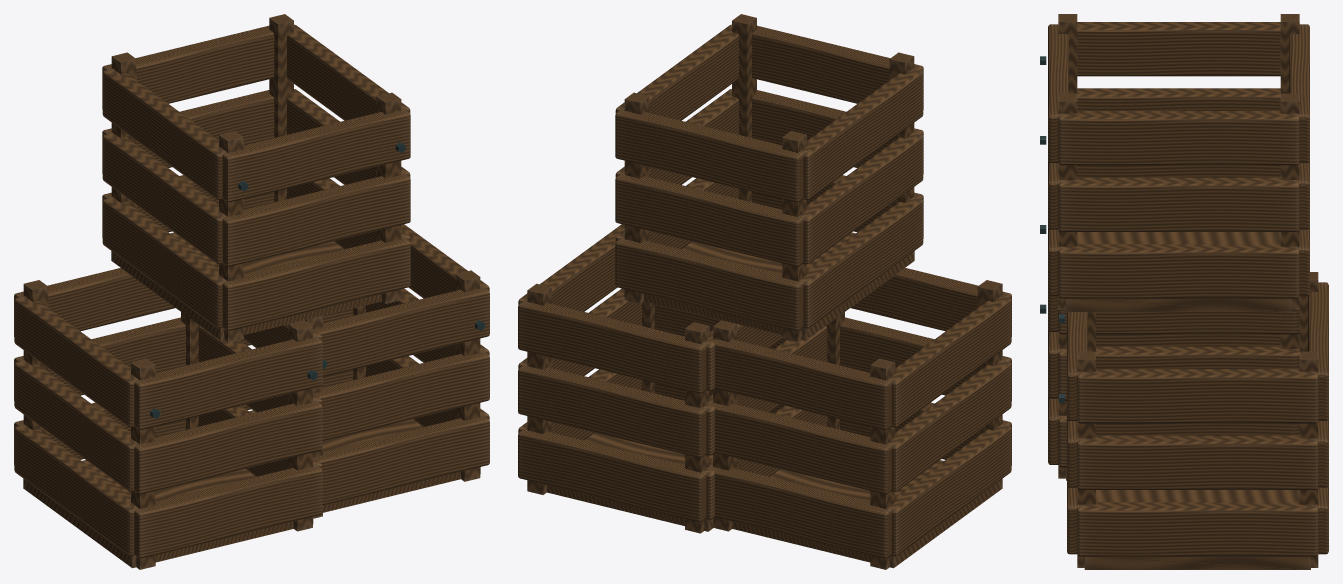
The model's file is crate_stack.fbx.
3 views of the same model, side by side, from view 1: azimuth 30°, elevation 25°; view 2: azimuth 150°, elevation 25°; view 3: azimuth 270°, elevation 25° (orthographic). The views are drawn at different scales.
Visible parts, largest first — view 1: crate_stack__crate_side.002, crate_stack__crate_side.014, crate_stack__crate_side, crate_stack__crate_side.012, crate_stack__crate_side.004, crate_stack__crate_side.016, crate_stack__crate_side.006, crate_stack__crate_side.008, crate_stack__crate_side.010, crate_stack__crate_end.014, crate_stack__crate_end.012, crate_stack__crate_end.016 (+31 smaller); view 2: crate_stack__crate_side.015, crate_stack__crate_side.017, crate_stack__crate_side.013, crate_stack__crate_side.007, crate_stack__crate_side.009, crate_stack__crate_side.011, crate_stack__crate_side.003, crate_stack__crate_side.001, crate_stack__crate_side.005, crate_stack__crate_end.002, crate_stack__crate_end, crate_stack__crate_end.014 (+33 smaller); view 3: crate_stack__crate_end.017, crate_stack__crate_end.013, crate_stack__crate_end.011, crate_stack__crate_end.007, crate_stack__crate_end.015, crate_stack__crate_end.009, crate_stack__crate_end.016, crate_stack__crate_bottom.001, crate_stack__crate_bottom.002, crate_stack__crate_end.005, crate_stack__crate_end.014, crate_stack__crate_end.003 (+28 smaller).
Part boxes in pixels (bbox=[...]): crate_stack__crate_side.002: bbox=[134, 401, 322, 494]; crate_stack__crate_side.014: bbox=[222, 172, 410, 266]; crate_stack__crate_side: bbox=[134, 465, 322, 558]; crate_stack__crate_side.012: bbox=[222, 236, 410, 330]; crate_stack__crate_side.004: bbox=[134, 336, 322, 429]; crate_stack__crate_side.016: bbox=[222, 109, 410, 202]; crate_stack__crate_side.006: bbox=[313, 415, 489, 505]; crate_stack__crate_side.008: bbox=[313, 351, 489, 440]; crate_stack__crate_side.010: bbox=[313, 287, 489, 376]; crate_stack__crate_end.014: bbox=[102, 133, 226, 264]; crate_stack__crate_end.012: bbox=[102, 197, 226, 328]; crate_stack__crate_end.016: bbox=[102, 69, 226, 199]; crate_stack__crate_side.015: bbox=[615, 172, 804, 266]; crate_stack__crate_side.017: bbox=[615, 108, 803, 202]; crate_stack__crate_side.013: bbox=[615, 237, 803, 330]; crate_stack__crate_side.007: bbox=[518, 428, 706, 522]; crate_stack__crate_side.009: bbox=[518, 364, 706, 457]; crate_stack__crate_side.011: bbox=[518, 300, 706, 393]; crate_stack__crate_side.003: bbox=[706, 399, 891, 494]; crate_stack__crate_side.001: bbox=[706, 464, 891, 558]; crate_stack__crate_side.005: bbox=[706, 339, 891, 429]; crate_stack__crate_end.002: bbox=[888, 360, 1011, 491]; crate_stack__crate_end: bbox=[888, 425, 1011, 555]; crate_stack__crate_end.014: bbox=[799, 133, 923, 264]; crate_stack__crate_end.017: bbox=[1058, 111, 1299, 165]; crate_stack__crate_end.013: bbox=[1058, 244, 1299, 298]; crate_stack__crate_end.011: bbox=[1077, 369, 1318, 423]; crate_stack__crate_end.007: bbox=[1077, 502, 1318, 556]; crate_stack__crate_end.015: bbox=[1058, 177, 1299, 231]; crate_stack__crate_end.009: bbox=[1077, 435, 1318, 489]; crate_stack__crate_end.016: bbox=[1077, 22, 1280, 76]; crate_stack__crate_bottom.001: bbox=[1084, 490, 1310, 569]; crate_stack__crate_bottom.002: bbox=[1066, 232, 1291, 311]; crate_stack__crate_end.005: bbox=[1058, 310, 1296, 334]; crate_stack__crate_end.014: bbox=[1077, 88, 1280, 110]; crate_stack__crate_end.003: bbox=[1058, 346, 1296, 400].
Size of the model in its own units: 235 by 247 by 153.
Materials: 2 (2 with a texture image).
